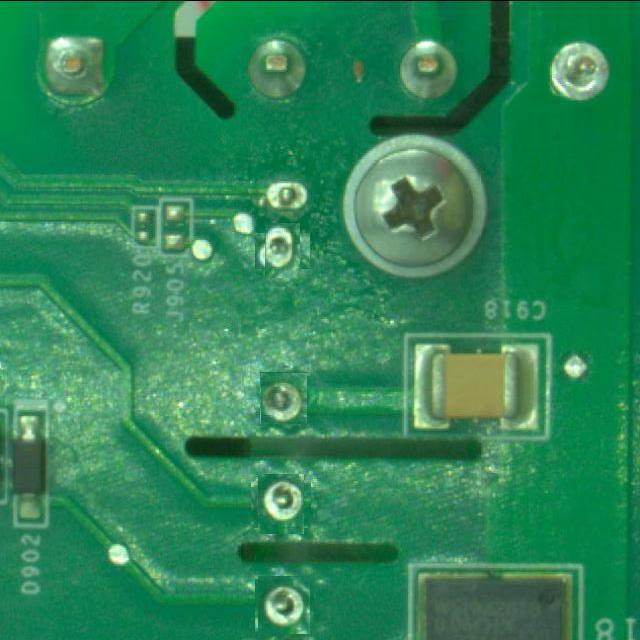lack_of_part: (257, 577, 312, 633), (254, 478, 308, 531), (264, 165, 317, 214), (260, 372, 307, 424), (260, 228, 305, 274)
